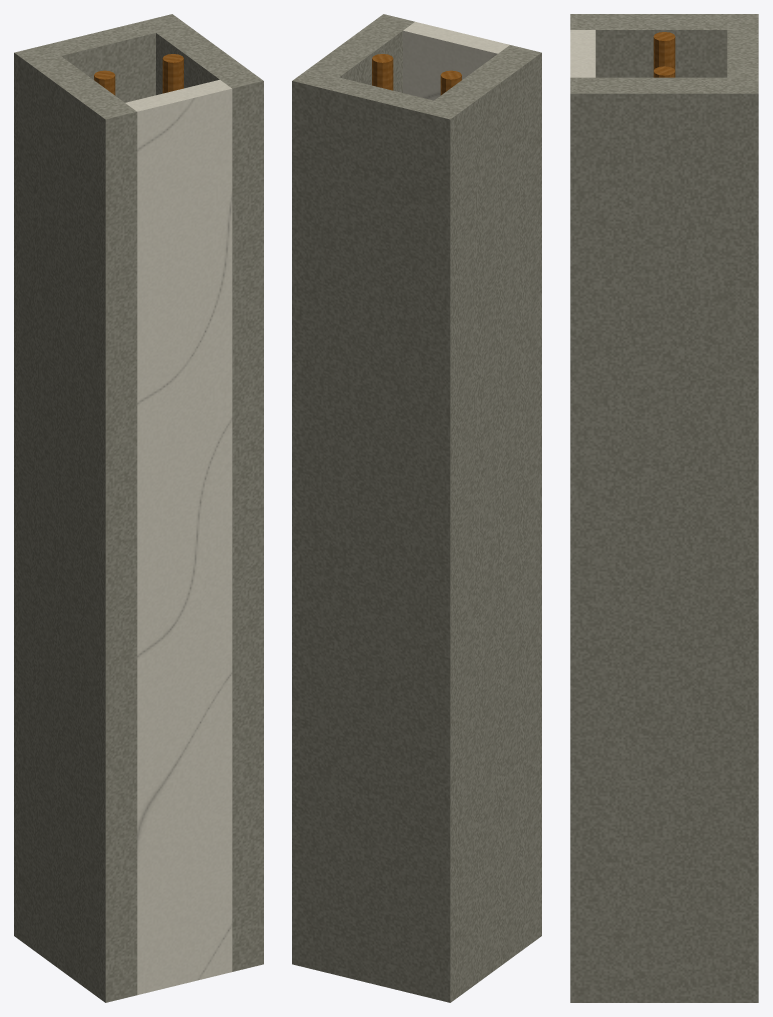
The picture shows the model from 3 angles, left to right: view 1: azimuth 30°, elevation 25°; view 2: azimuth 150°, elevation 25°; view 3: azimuth 270°, elevation 25°; orthographic projection. The views are drawn at different scales.
Parts seen in each view (by area): view 1: Utility chase stone side, Removable marble inspection panel, Utility chase stone side.001, Utility chase rear, Separated vertical utility conduit.001; view 2: Utility chase stone side, Utility chase rear, Utility chase stone side.001, Removable marble inspection panel, Separated vertical utility conduit.001; view 3: Utility chase stone side.001, Utility chase stone side, Utility chase rear, Removable marble inspection panel, Separated vertical utility conduit.
Boxes of the visible parts, <box> form: Utility chase stone side: <box>14,45,137,1002</box>; Removable marble inspection panel: <box>125,79,232,994</box>; Utility chase stone side.001: <box>141,14,263,971</box>; Utility chase rear: <box>46,21,155,102</box>; Separated vertical utility conduit.001: <box>162,54,183,93</box>; Utility chase stone side: <box>418,45,541,1002</box>; Utility chase rear: <box>323,77,433,994</box>; Utility chase stone side.001: <box>292,14,414,971</box>; Removable marble inspection panel: <box>403,21,509,100</box>; Separated vertical utility conduit.001: <box>372,54,393,90</box>; Utility chase stone side.001: <box>570,77,758,1002</box>; Utility chase stone side: <box>570,14,758,77</box>; Utility chase rear: <box>727,30,758,77</box>; Removable marble inspection panel: <box>570,30,595,77</box>; Separated vertical utility conduit: <box>653,32,675,70</box>.
Size of the model in its own units: 0.6 by 3.2 by 0.6.
3 materials, 3 textured.
